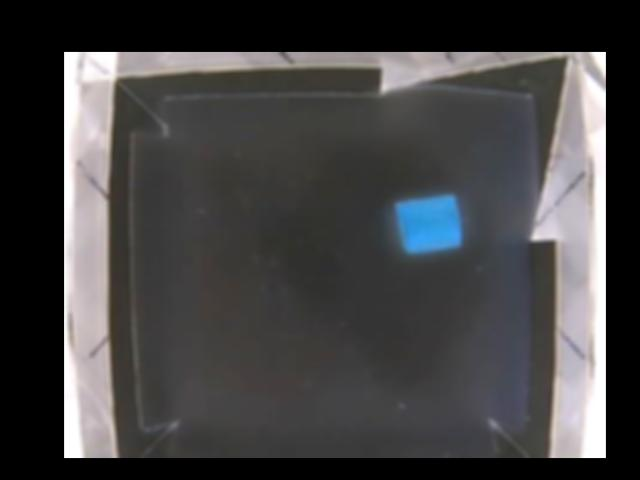Carrot: (392, 192, 461, 249)
